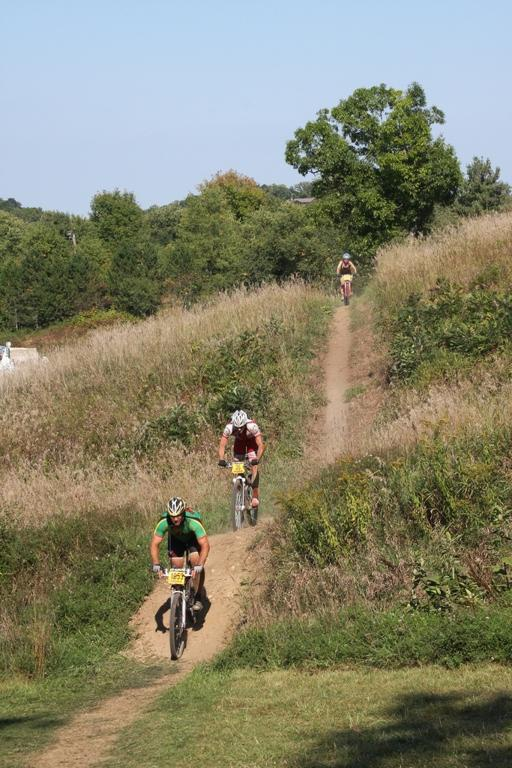non-vehicle: (156, 558, 202, 660), (222, 456, 261, 530), (340, 270, 355, 306)
